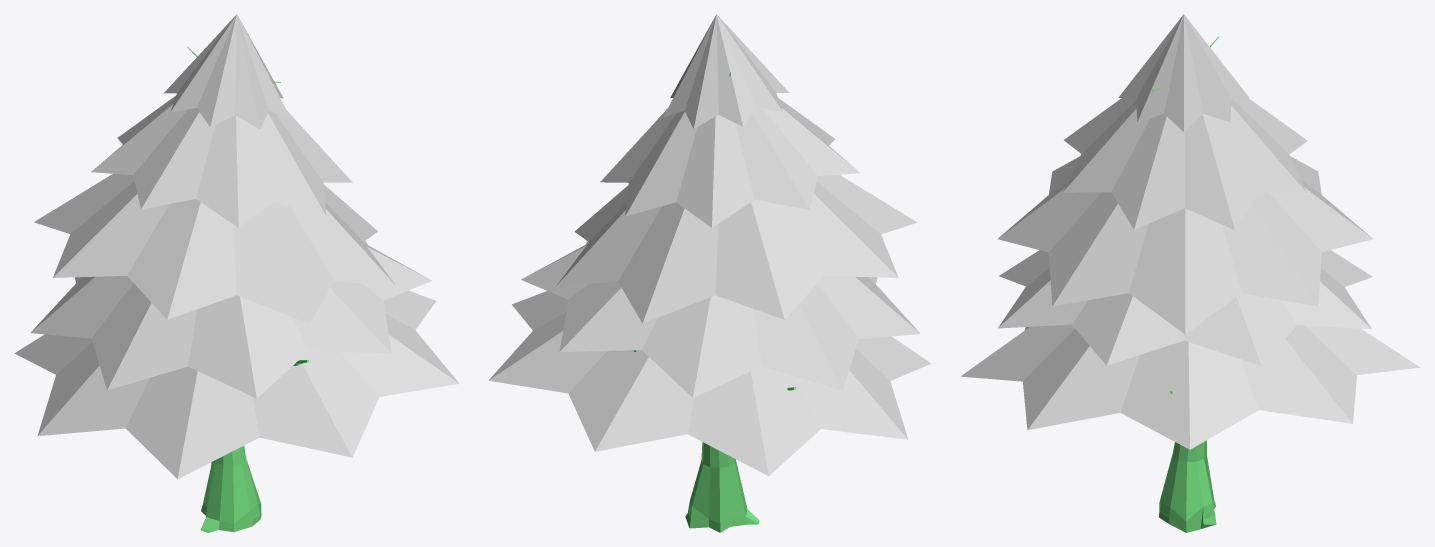
File: alpine_tree_2.gltf
3 renders of one model, left to right at view 1: azimuth 30°, elevation 25°; view 2: azimuth 150°, elevation 25°; view 3: azimuth 270°, elevation 25°, orthographic.
Visible parts, largest first — view 1: PineLeaves.005, PineLeaves.003, PineLeaves.004, PineLeaves.001, PineLeaves, Trunk-col; view 2: PineLeaves.005, PineLeaves.003, PineLeaves.004, PineLeaves.001, PineLeaves, Trunk-col; view 3: PineLeaves.003, PineLeaves.005, PineLeaves.001, PineLeaves.004, PineLeaves, Trunk-col.
Part boxes in pixels (x1=…): PineLeaves.005: x1=14, y1=290, x2=459, y2=479; PineLeaves.003: x1=34, y1=173, x2=396, y2=323; PineLeaves.004: x1=30, y1=241, x2=431, y2=398; PineLeaves.001: x1=91, y1=96, x2=352, y2=227; PineLeaves: x1=164, y1=14, x2=290, y2=129; Trunk-col: x1=200, y1=446, x2=261, y2=532; PineLeaves.005: x1=489, y1=291, x2=930, y2=476; PineLeaves.003: x1=556, y1=174, x2=917, y2=323; PineLeaves.004: x1=521, y1=241, x2=920, y2=397; PineLeaves.001: x1=600, y1=98, x2=860, y2=227; PineLeaves: x1=663, y1=14, x2=789, y2=128; Trunk-col: x1=685, y1=442, x2=759, y2=532; PineLeaves.003: x1=997, y1=156, x2=1372, y2=334; PineLeaves.005: x1=960, y1=324, x2=1419, y2=449; PineLeaves.001: x1=1063, y1=98, x2=1307, y2=229; PineLeaves.004: x1=998, y1=250, x2=1372, y2=365; PineLeaves: x1=1118, y1=14, x2=1249, y2=131; Trunk-col: x1=1159, y1=440, x2=1216, y2=532.
Size of the model in its own units: 9.62 by 11.72 by 9.66.
